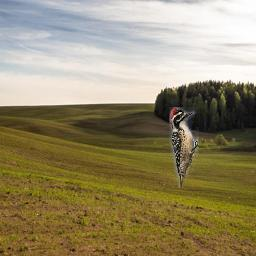Woodpecker: (169, 108, 199, 189)
